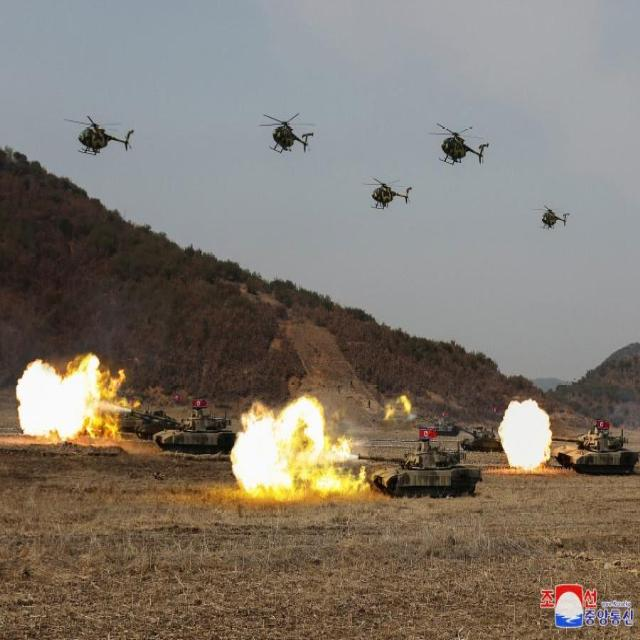north tank: (344, 435, 488, 523), (138, 408, 259, 478), (556, 414, 640, 488)
